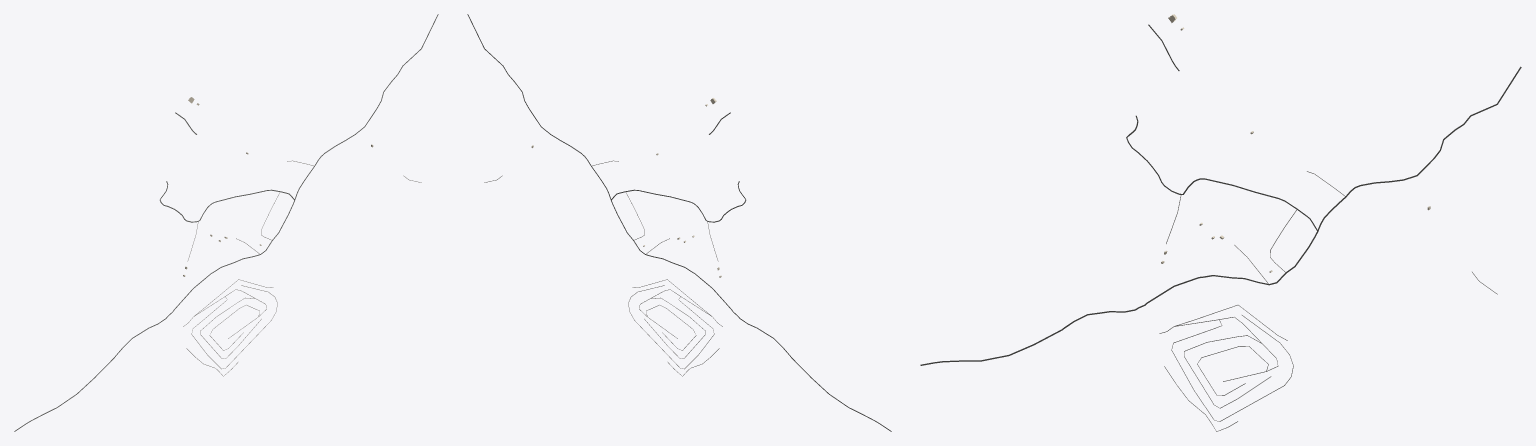
Rendered from historic-palestine-02_19_3438_3139.glb.
3 views of the same model, side by side, from view 1: azimuth 30°, elevation 25°; view 2: azimuth 150°, elevation 25°; view 3: azimuth 330°, elevation 25° (orthographic). The views are drawn at different scales.
Parts seen in each view (by area): view 1: Road .001; view 2: Road .001; view 3: Road .001.
Part boxes in pixels (x1,y1,x2,y2): Road .001: [14, 14, 438, 431]; Road .001: [467, 14, 891, 431]; Road .001: [920, 66, 1521, 365].
Size of the model in its own units: 1570 by 1113 by 8.7.
